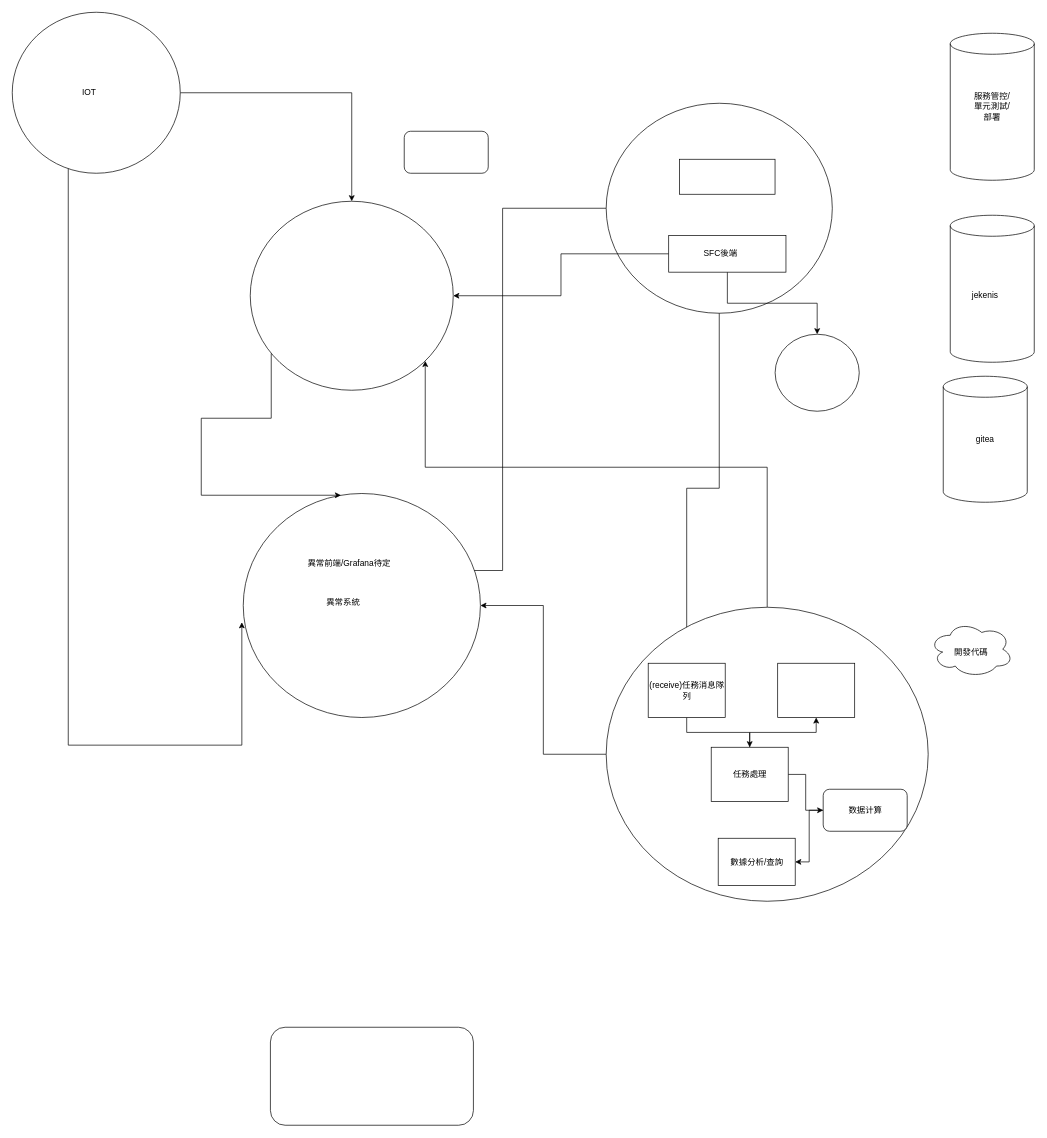
The diagram is 1047 pixels wide and 1138 high, and some of its shapes have lost their labels. Here are the shapes that lost their labels. From the top down, the centre of each, then its label:
At point 446,152: "通过缓存建立上下文,".
At point 727,176: "SFC客戶端".
At point 351,295: "产品上下文/制程360".
At point 816,372: "产品拦截".
At point 816,690: "任務註冊".
